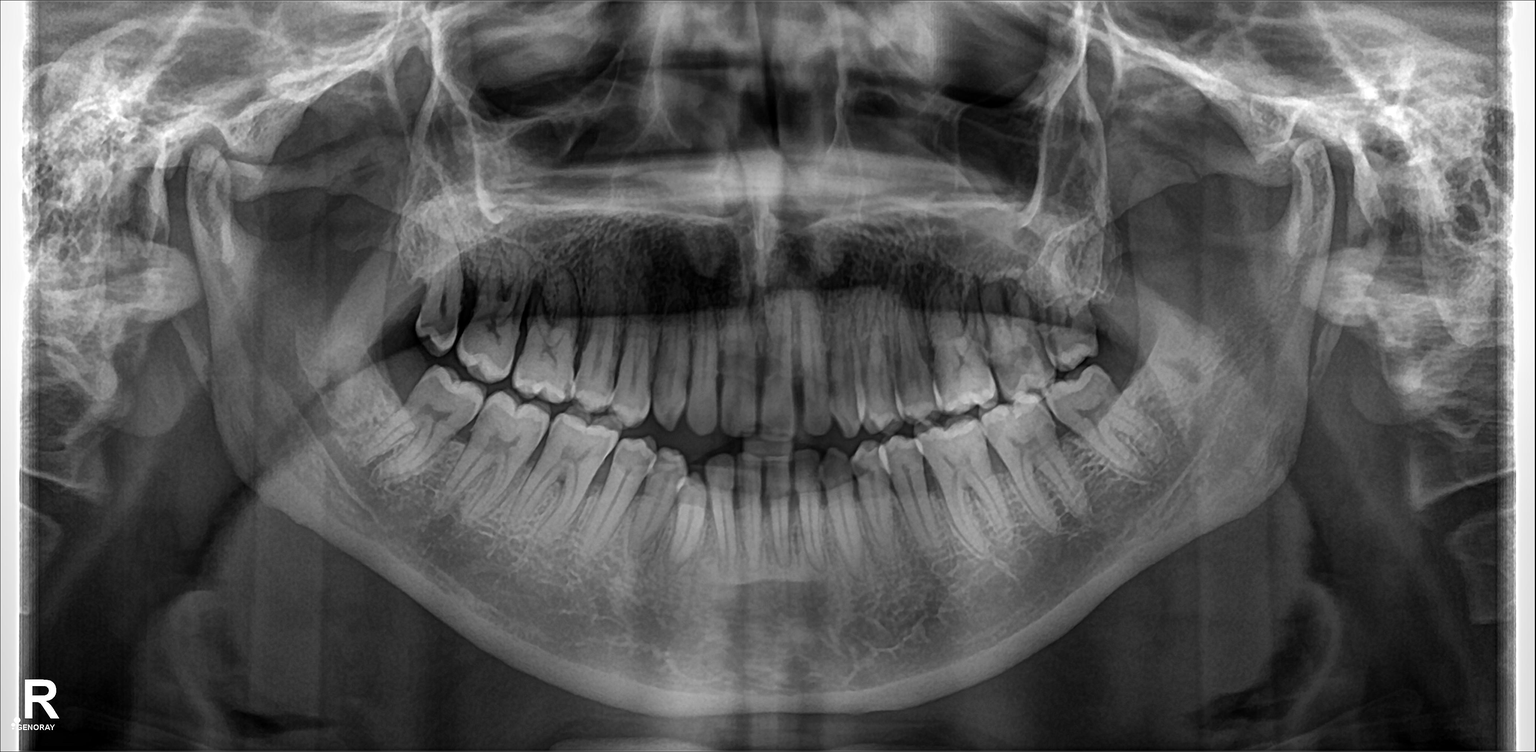Missing Tooth: (1101, 272, 1143, 362), (382, 246, 417, 343), (365, 356, 414, 417)
